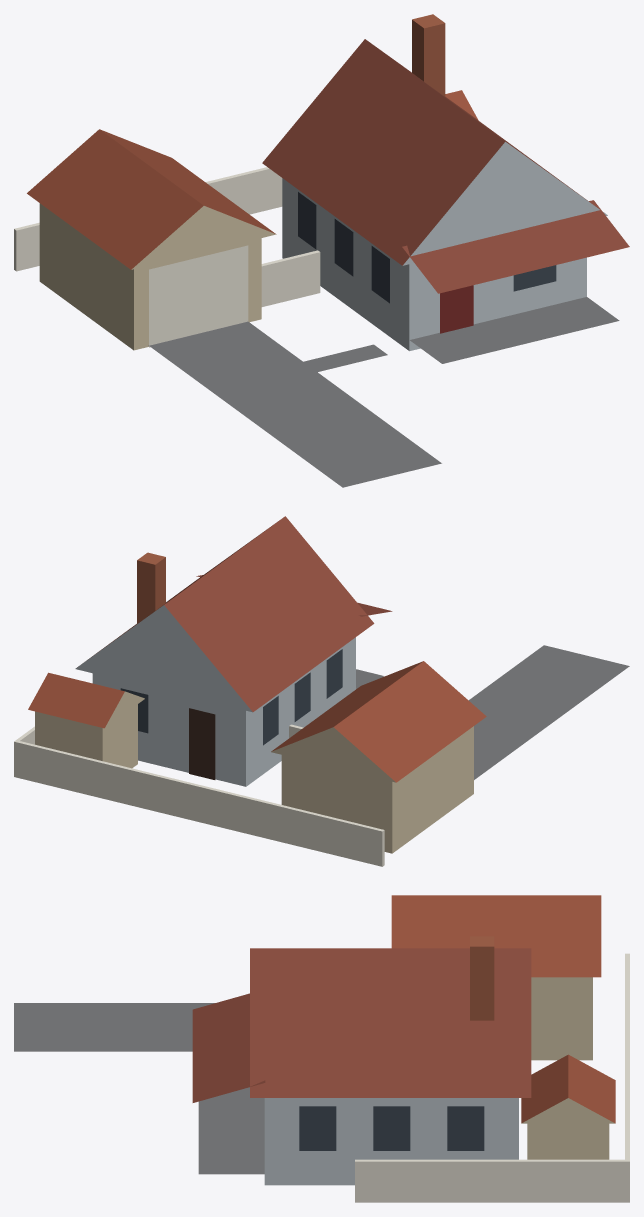
File: house_e_far.glb
The picture shows the model from 3 angles, top to bottom: view 1: azimuth 30°, elevation 25°; view 2: azimuth 150°, elevation 25°; view 3: azimuth 270°, elevation 25°; orthographic projection. The views are drawn at different scales.
Visible parts, largest first — view 1: house_e_far; view 2: house_e_far; view 3: house_e_far.
Part boxes in pixels (bbox=[...]): house_e_far: bbox=[14, 14, 629, 487]; house_e_far: bbox=[14, 516, 629, 866]; house_e_far: bbox=[14, 895, 629, 1202].
Bounding box in the file's own units: 12.05 × 5.9 × 15.
